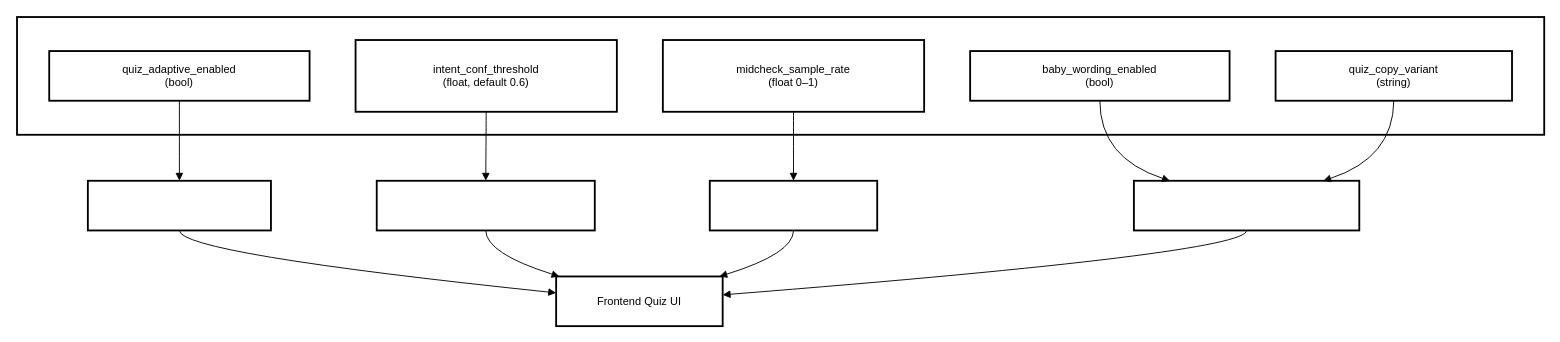
Image size: 1560x342. Some labels were removed from this diagram. Each missing label, with the box of its shape:
Intent Inference (Q1–Q2): (375, 179, 595, 231)
MidCheck Trigger: (708, 179, 878, 231)
Outro Copy (CTA wording): (1133, 179, 1360, 231)
State Machine Flow: (86, 179, 271, 231)
